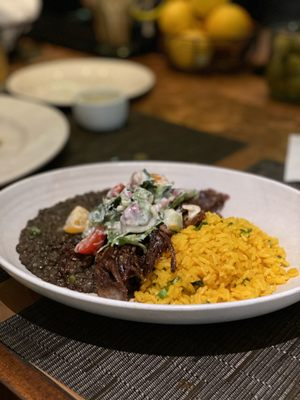sushi: (0, 161, 299, 327)
